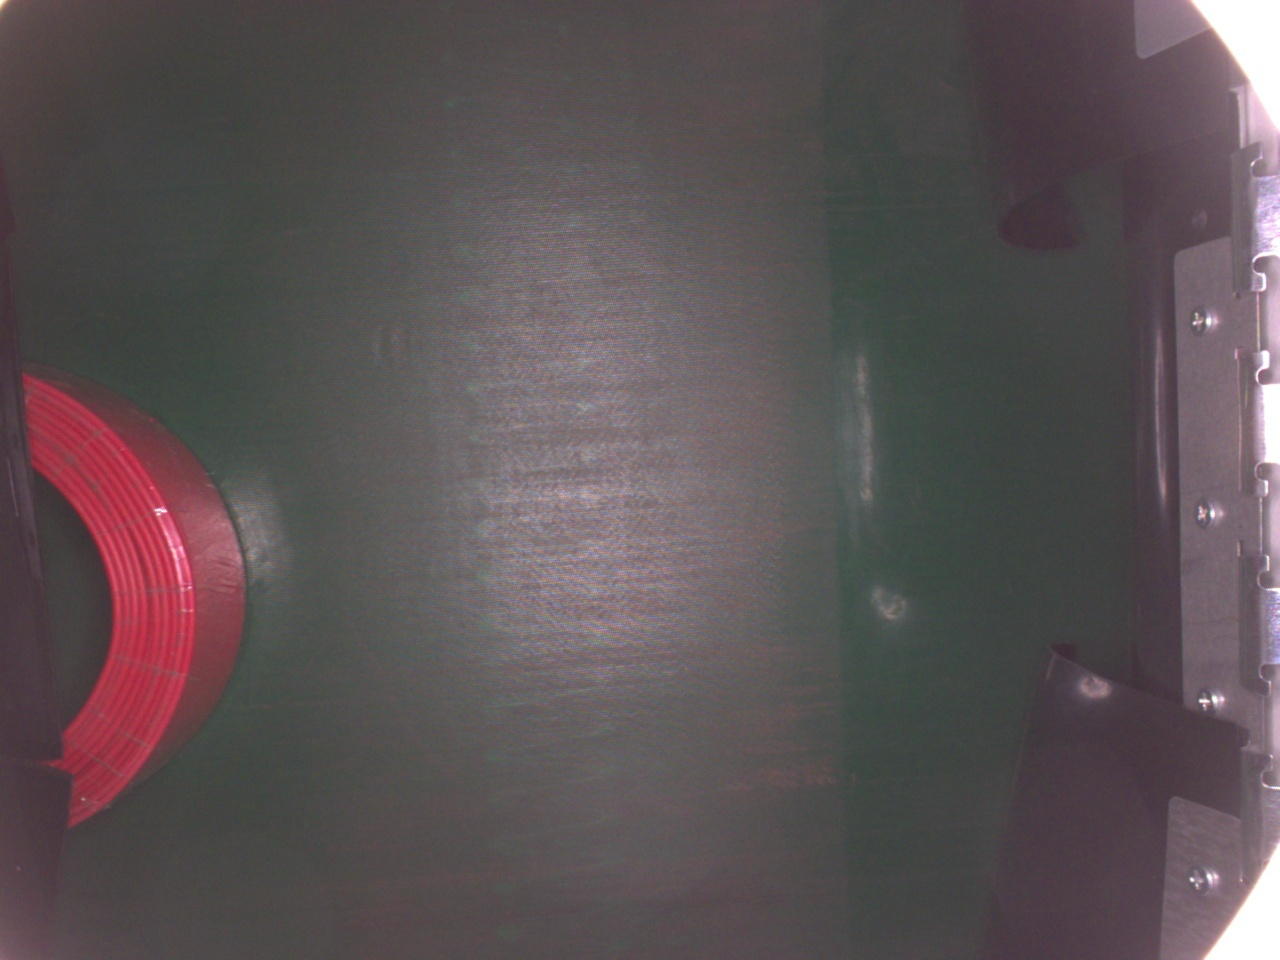red: (23, 353, 249, 829)
